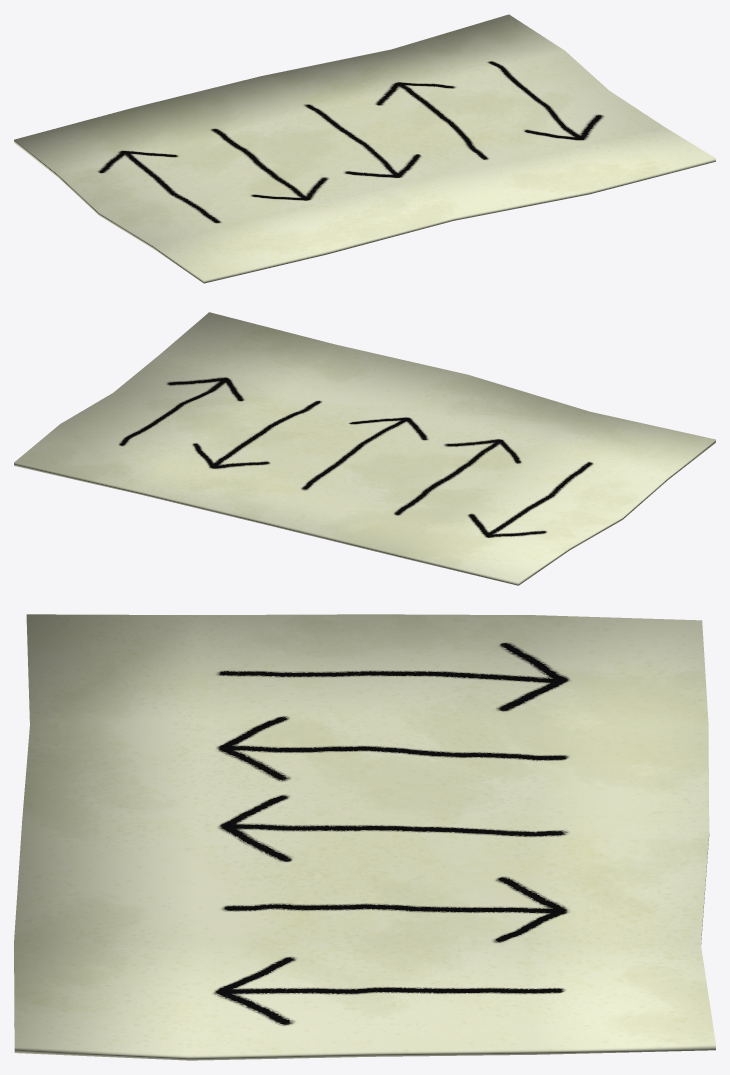
Rendered from Tip.fbx.
3 views of the same model, one above another, from view 1: azimuth 30°, elevation 25°; view 2: azimuth 150°, elevation 25°; view 3: azimuth 270°, elevation 25° (orthographic). The views are drawn at different scales.
Parts seen in each view (by area): view 1: TIP; view 2: TIP; view 3: TIP.
Boxes of the visible parts, x1,y1,x2,y2 form: TIP: [14, 14, 715, 283]; TIP: [14, 312, 715, 585]; TIP: [14, 614, 715, 1060].
Bounding box in the file's own units: 304 × 6.51 × 206.
Materials: 1 (1 with a texture image).
